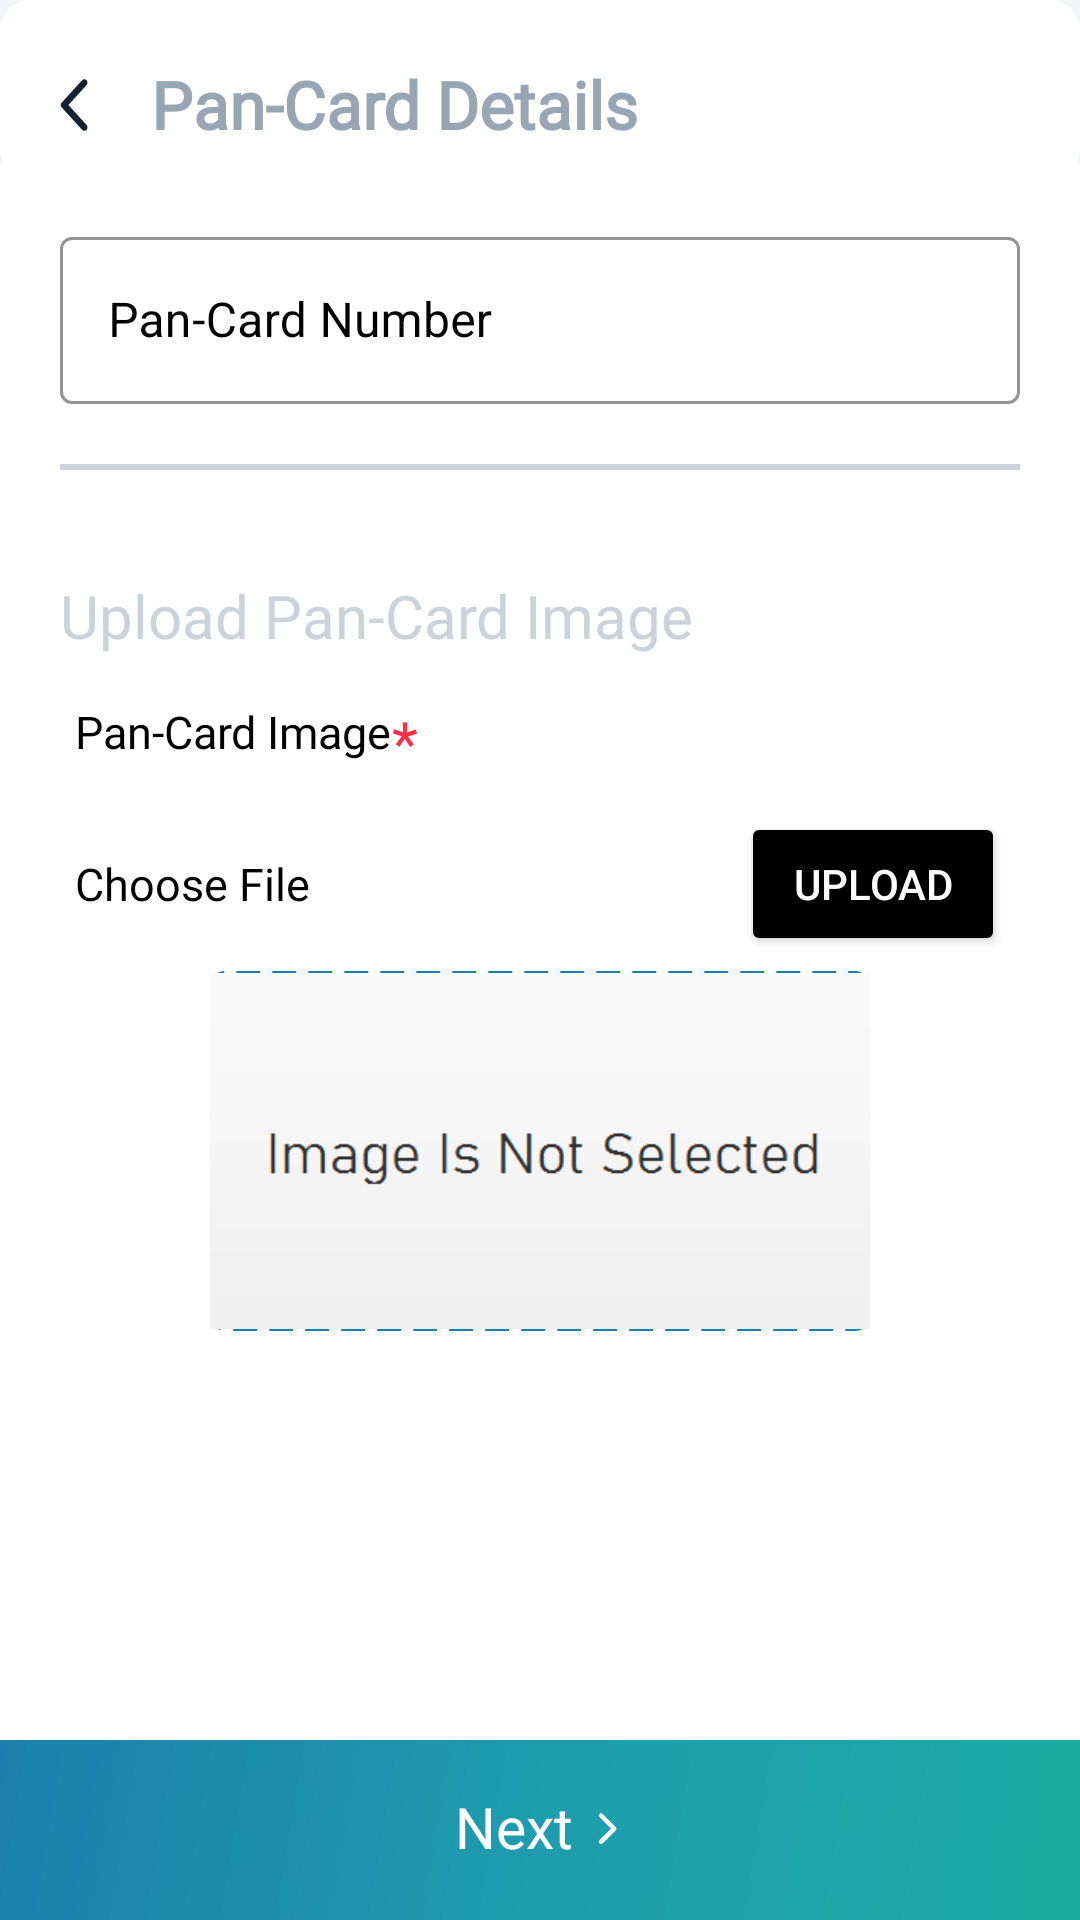

Icon bounding boxes for this 1080px x 1920px phone screenshot, format (left=x1, top=y1, right=x2, bottom=y2):
back: (left=60, top=79, right=88, bottom=131)
